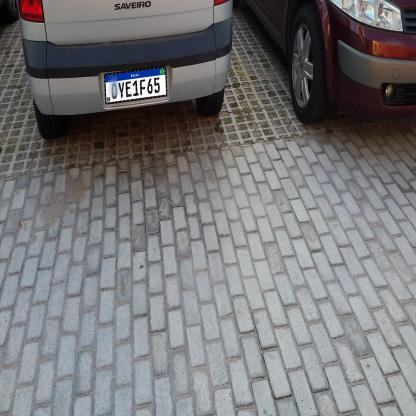PlacaM: (104, 66, 167, 104)
